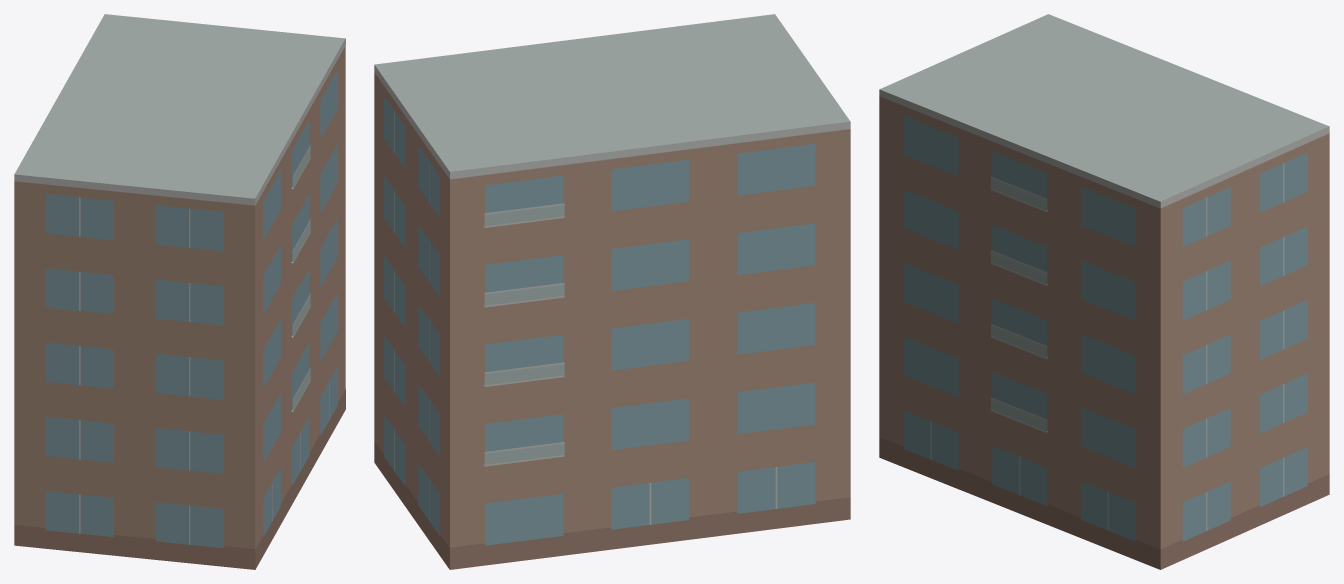
File: survey-upis-32894115.glb
3 views of the same model, side by side, from view 1: azimuth 30°, elevation 25°; view 2: azimuth 150°, elevation 25°; view 3: azimuth 270°, elevation 25° (orthographic). The views are drawn at different scales.
Visible parts, largest first — view 1: survey-upis-32894115.tmp; view 2: survey-upis-32894115.tmp; view 3: survey-upis-32894115.tmp.
Boxes of the visible parts, bbox=[...] form: survey-upis-32894115.tmp: bbox=[14, 14, 345, 569]; survey-upis-32894115.tmp: bbox=[374, 14, 850, 569]; survey-upis-32894115.tmp: bbox=[879, 14, 1329, 569].
Bounding box in the file's own units: 14.45 × 13.2 × 14.64.
